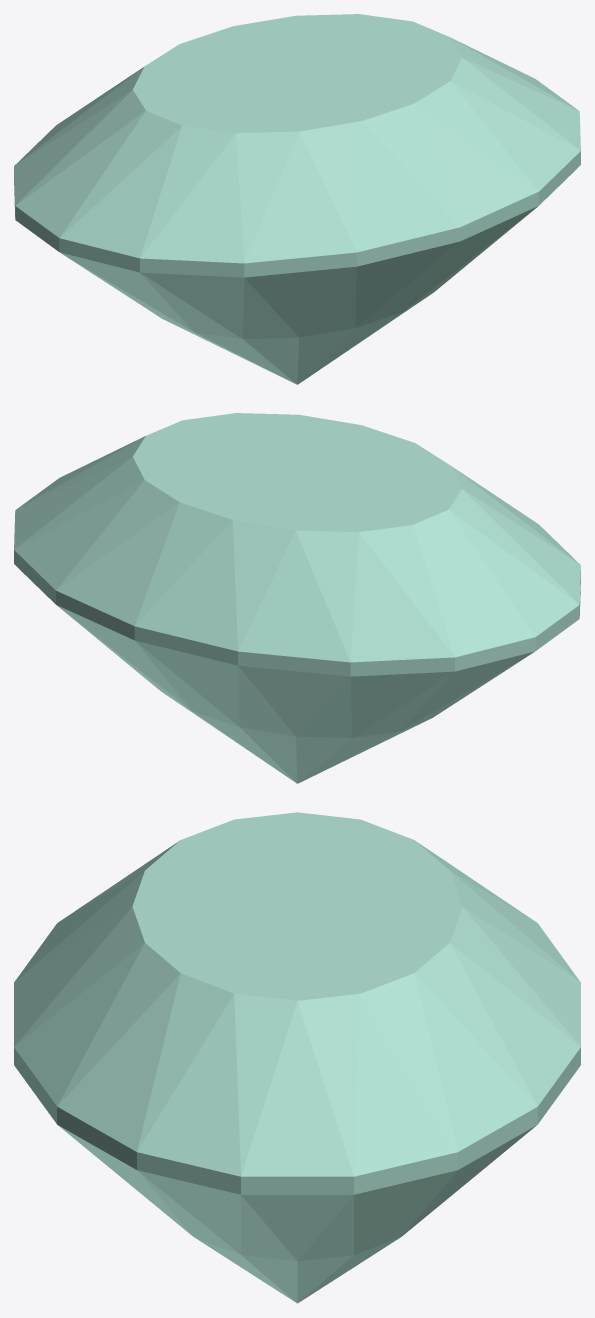
The model's file is grandidierite.glb.
3 renders of one model, top to bottom at view 1: azimuth 30°, elevation 25°; view 2: azimuth 150°, elevation 25°; view 3: azimuth 270°, elevation 25°, orthographic. The views are drawn at different scales.
Parts seen in each view (by area): view 1: grandidierite; view 2: grandidierite; view 3: grandidierite.
Part boxes in pixels (x1=…): grandidierite: x1=14, y1=14, x2=580, y2=384; grandidierite: x1=14, y1=413, x2=580, y2=783; grandidierite: x1=14, y1=812, x2=580, y2=1303.
Bounding box in the file's own units: 0.25 × 0.1429 × 0.185.
